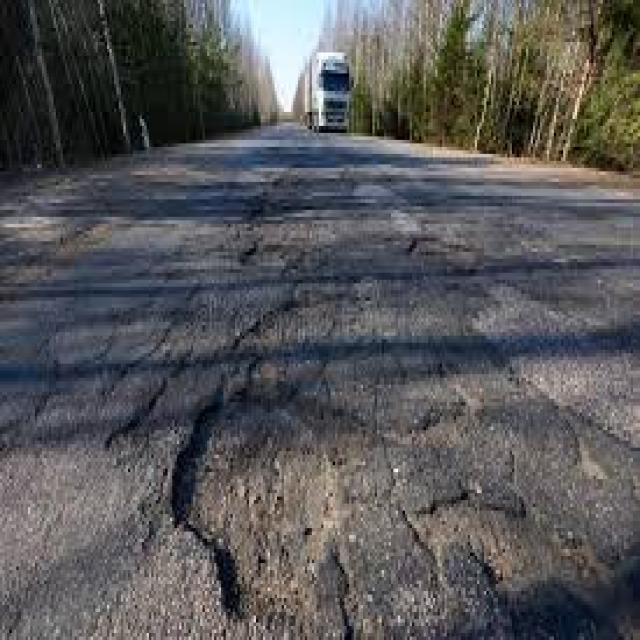Pothole: (403, 378, 621, 591), (175, 402, 340, 616), (235, 217, 477, 350)
